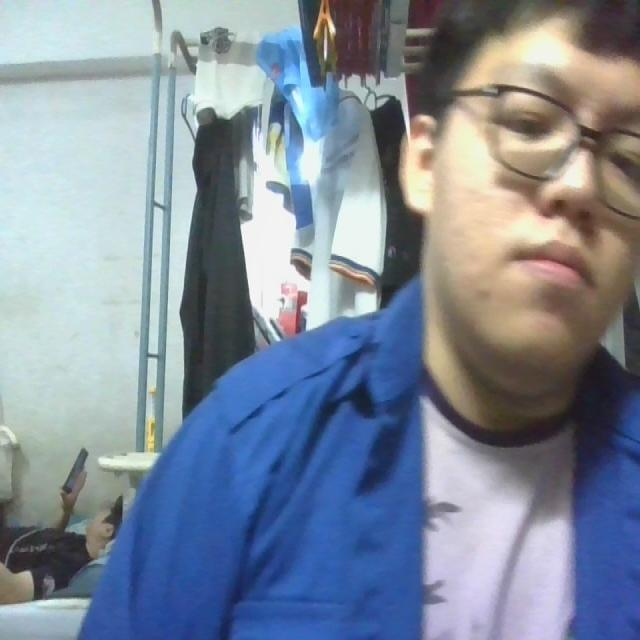person_with_labcoat: (81, 0, 639, 639)
